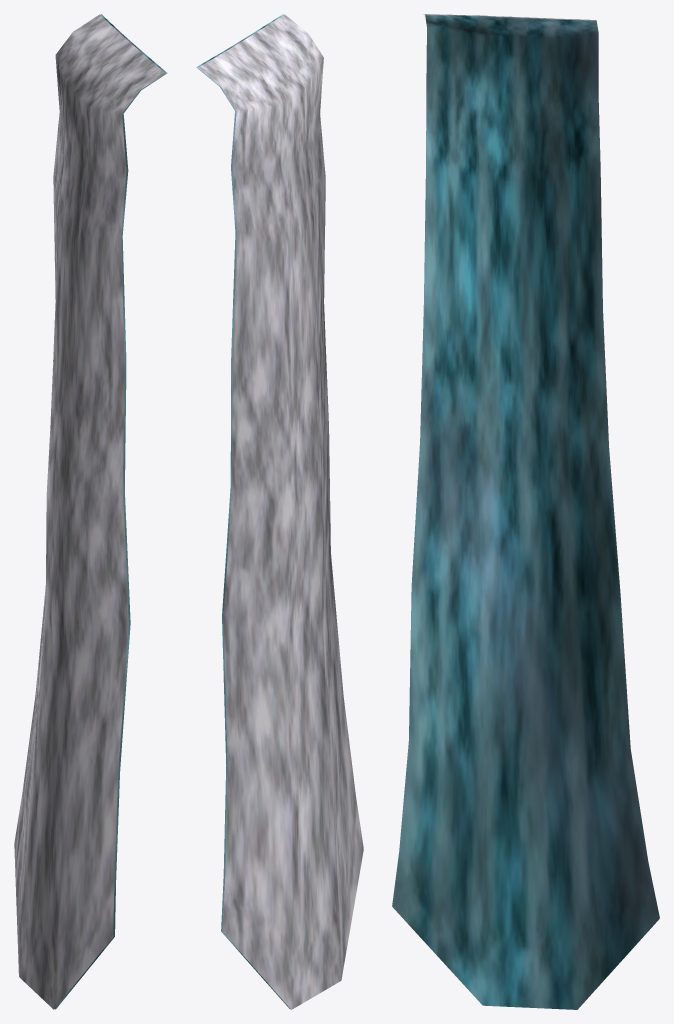
Rendered from OVERHILL_A_01_WATERFALLS05.fbx.
3 renders of one model, left to right at view 1: azimuth 30°, elevation 25°; view 2: azimuth 150°, elevation 25°; view 3: azimuth 270°, elevation 25°, orthographic. The views are drawn at different scales.
Visible parts, largest first — view 1: OVERHILL_A_01_WATERFALLS05; view 2: OVERHILL_A_01_WATERFALLS05; view 3: OVERHILL_A_01_WATERFALLS05.
Boxes of the visible parts, bbox=[...] form: OVERHILL_A_01_WATERFALLS05: bbox=[14, 14, 167, 1009]; OVERHILL_A_01_WATERFALLS05: bbox=[196, 14, 363, 1009]; OVERHILL_A_01_WATERFALLS05: bbox=[392, 14, 659, 1009].
Size of the model in its own units: 23385 by 215450 by 50463.
2 materials, 2 textured.
